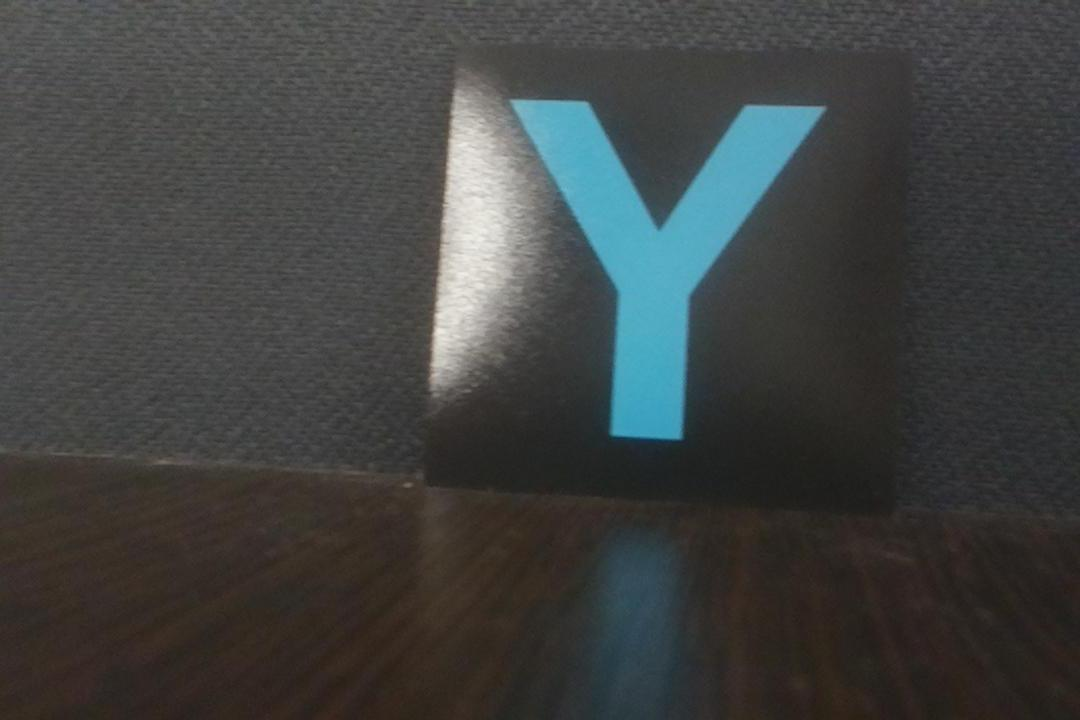y: (444, 59, 874, 484)
